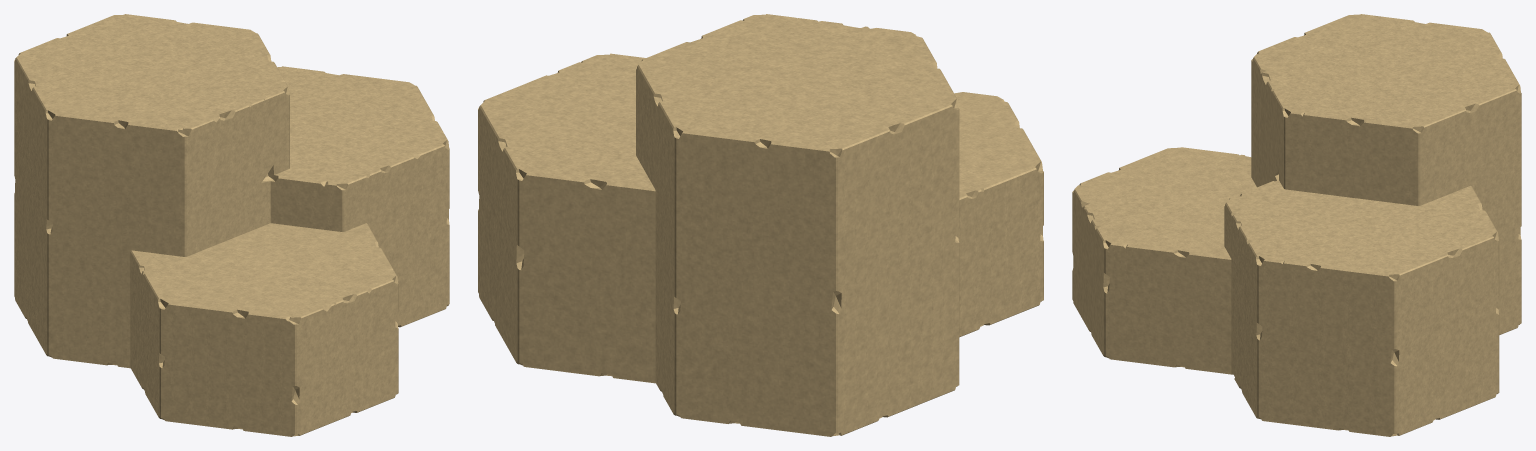
Rendered from OrirockConcentration_AllEdgeChips.fbx.
The picture shows the model from 3 angles, left to right: view 1: azimuth 30°, elevation 25°; view 2: azimuth 150°, elevation 25°; view 3: azimuth 270°, elevation 25°; orthographic projection. The views are drawn at different scales.
Parts seen in each view (by area): view 1: 提纯源岩_左后_宽顶短壁, 提纯源岩_前方_宽扁断块, 提纯源岩_右后_斜切与下阶; view 2: 提纯源岩_左后_宽顶短壁, 提纯源岩_右后_斜切与下阶, 提纯源岩_前方_宽扁断块; view 3: 提纯源岩_右后_斜切与下阶, 提纯源岩_左后_宽顶短壁, 提纯源岩_前方_宽扁断块.
Boxes of the visible parts, x1,y1,x2,y2 form: 提纯源岩_左后_宽顶短壁: (14, 14, 289, 368); 提纯源岩_前方_宽扁断块: (130, 223, 398, 436); 提纯源岩_右后_斜切与下阶: (261, 66, 449, 327); 提纯源岩_左后_宽顶短壁: (636, 14, 959, 436); 提纯源岩_右后_斜切与下阶: (478, 53, 655, 383); 提纯源岩_前方_宽扁断块: (954, 92, 1043, 337); 提纯源岩_右后_斜切与下阶: (1224, 170, 1499, 436); 提纯源岩_左后_宽顶短壁: (1251, 14, 1521, 334); 提纯源岩_前方_宽扁断块: (1072, 147, 1256, 374).
Size of the model in its own units: 162 by 97.18 by 165.
